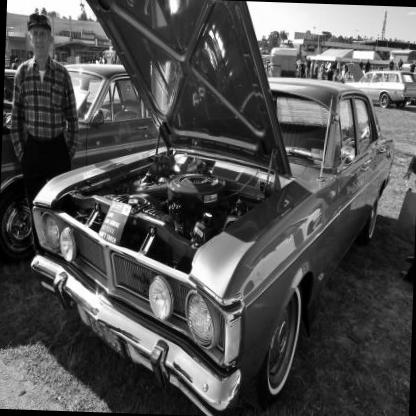car: (15, 46, 409, 411)
